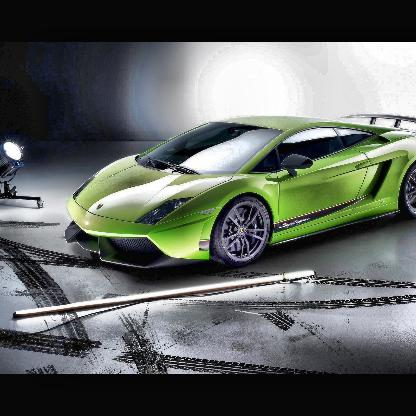Lamborghini Gallardo LP 570-4 Superleggera 2012: (62, 111, 416, 278)
